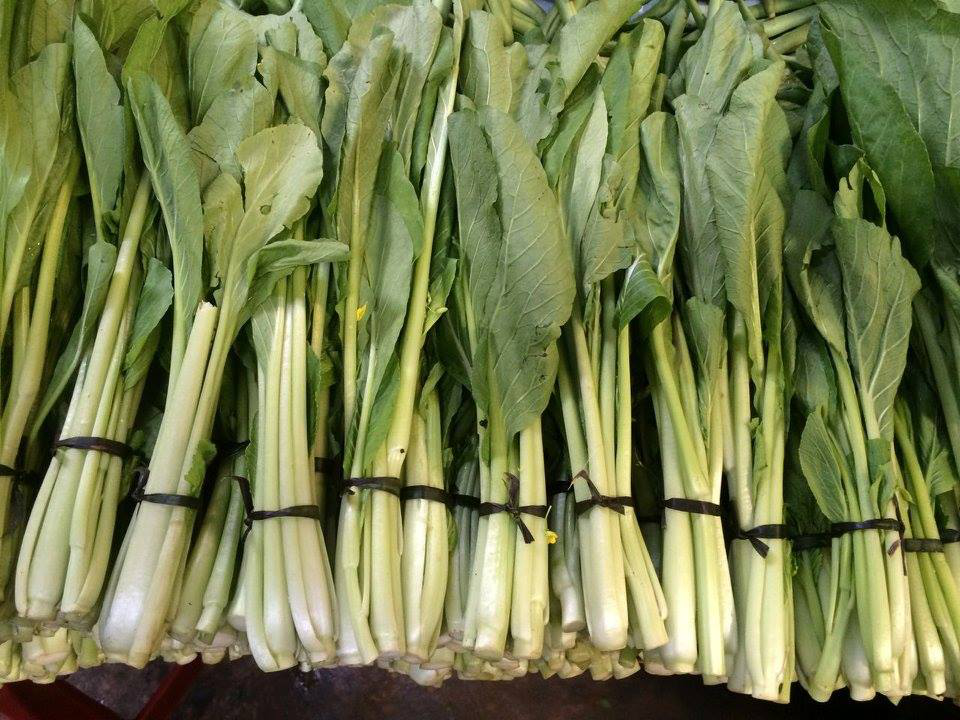Sawi: (129, 40, 921, 646)
